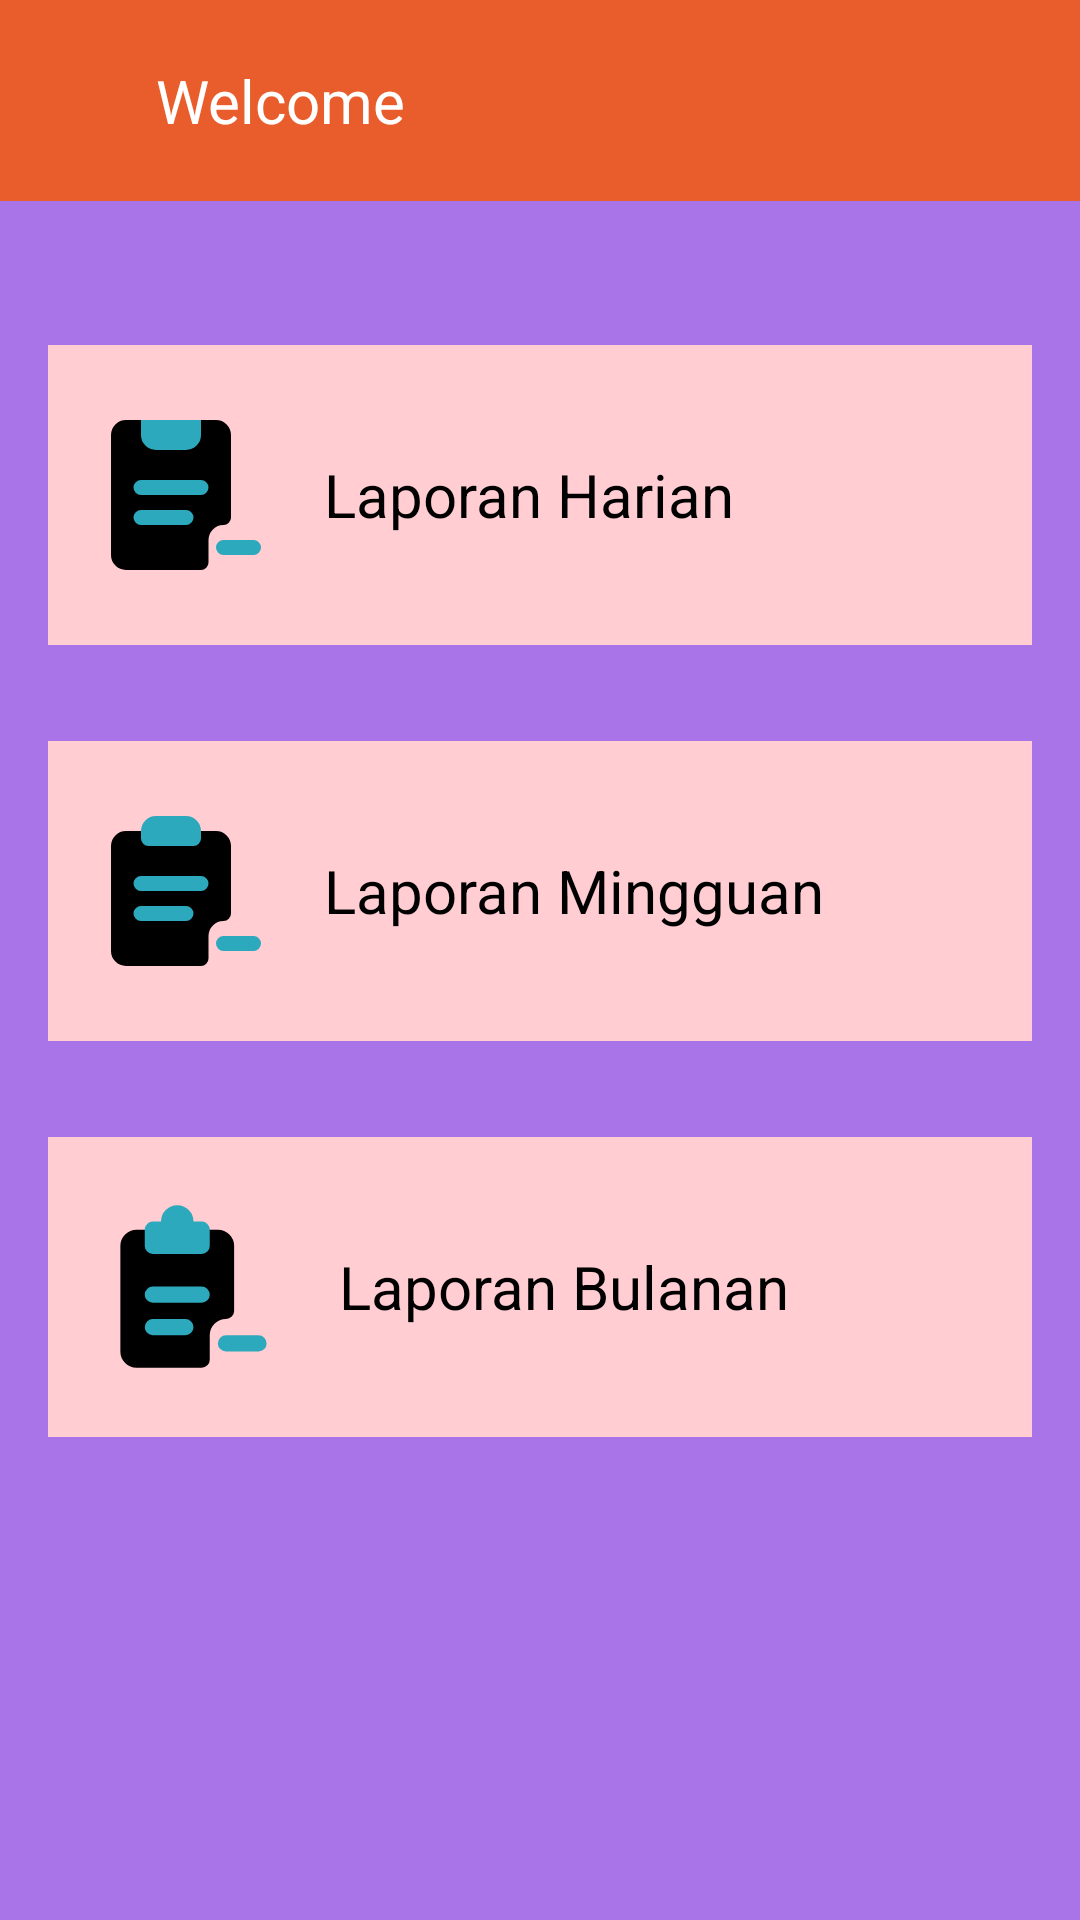

Icons on this 1080w x 1920h Android screen, each with the point to tap as (x,y):
keluar bulan: (193,1286)
keluar hari: (186,495)
keluar minggu: (186,891)
